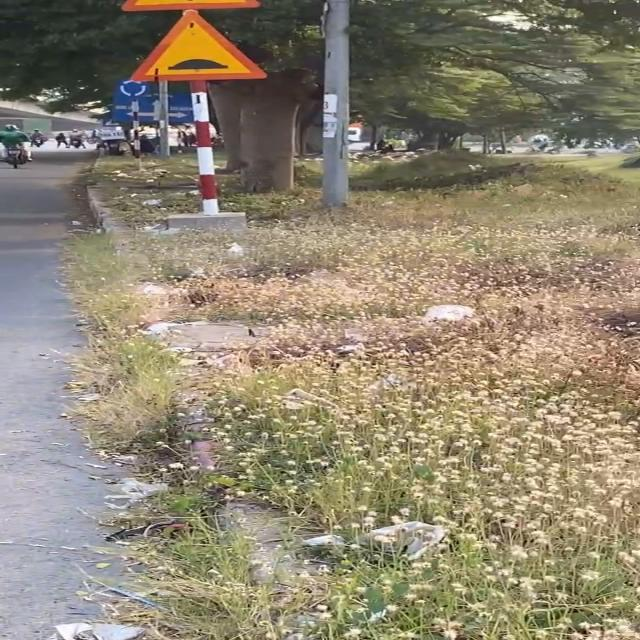221-duong-go-ghe: (130, 12, 272, 83)
303-noi-giao-nhau-chay-theo-vong-xuyen: (118, 78, 149, 98)
